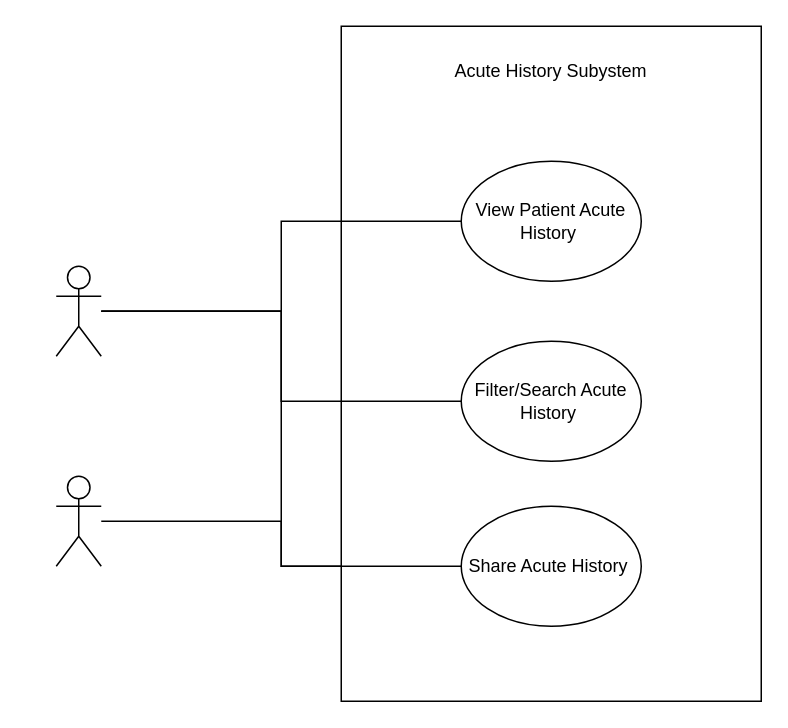
This 788x728 diagram has some shape labels left out. The box of each missing label's shape, as (x1, y1, x2, y2) in pixels:
Doctor/Nurse: (55, 475, 101, 566)
Paramedic: (55, 265, 101, 356)
